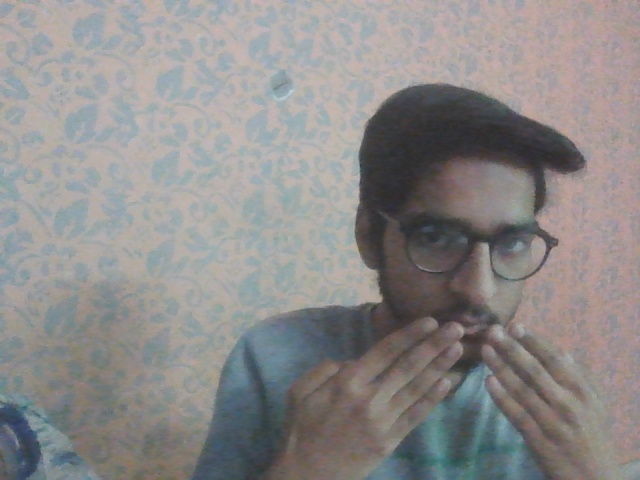ThankYou: (269, 311, 624, 477)
